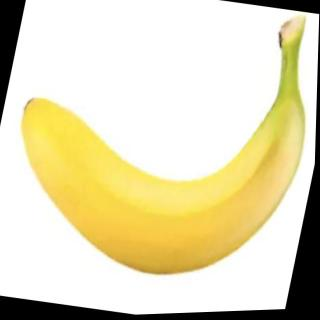banana: (0, 47, 316, 302)
